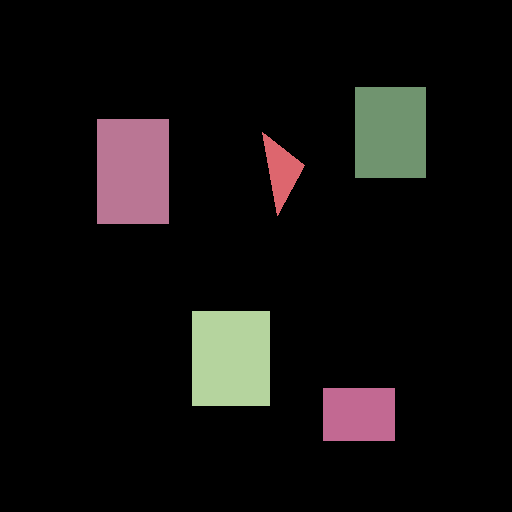rectangle: (97, 119, 168, 223), (192, 311, 269, 405), (355, 87, 425, 177), (323, 388, 394, 440)
triangle: (262, 132, 304, 215)
